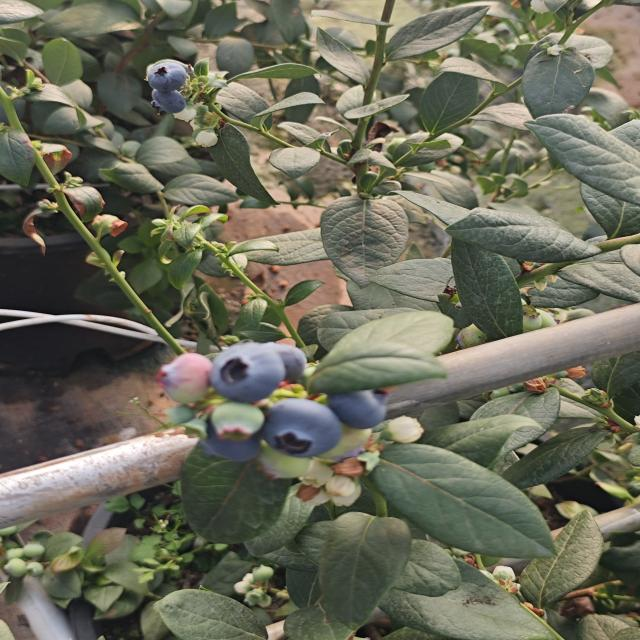ripe: (259, 396, 344, 461), (207, 340, 289, 404), (329, 377, 392, 428), (142, 57, 194, 116)
